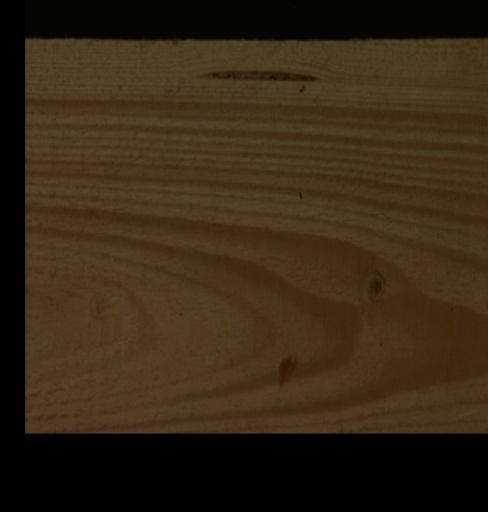sound_knot: (357, 264, 386, 304)
